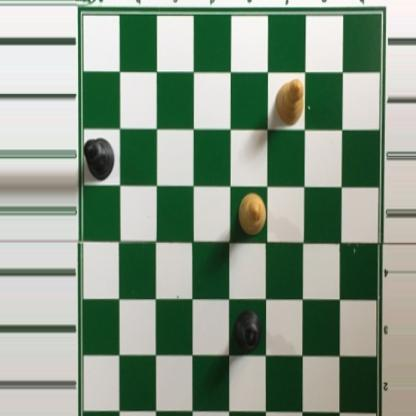black-bishop: (82, 138, 116, 181), (233, 311, 261, 354)
white-bishop: (238, 189, 269, 238), (273, 79, 304, 127)
